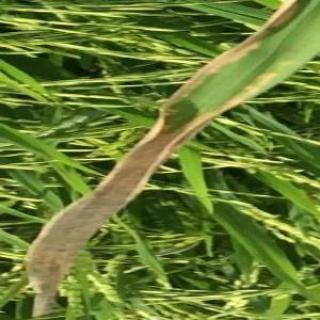Hawar-Daun: (28, 0, 319, 316)
